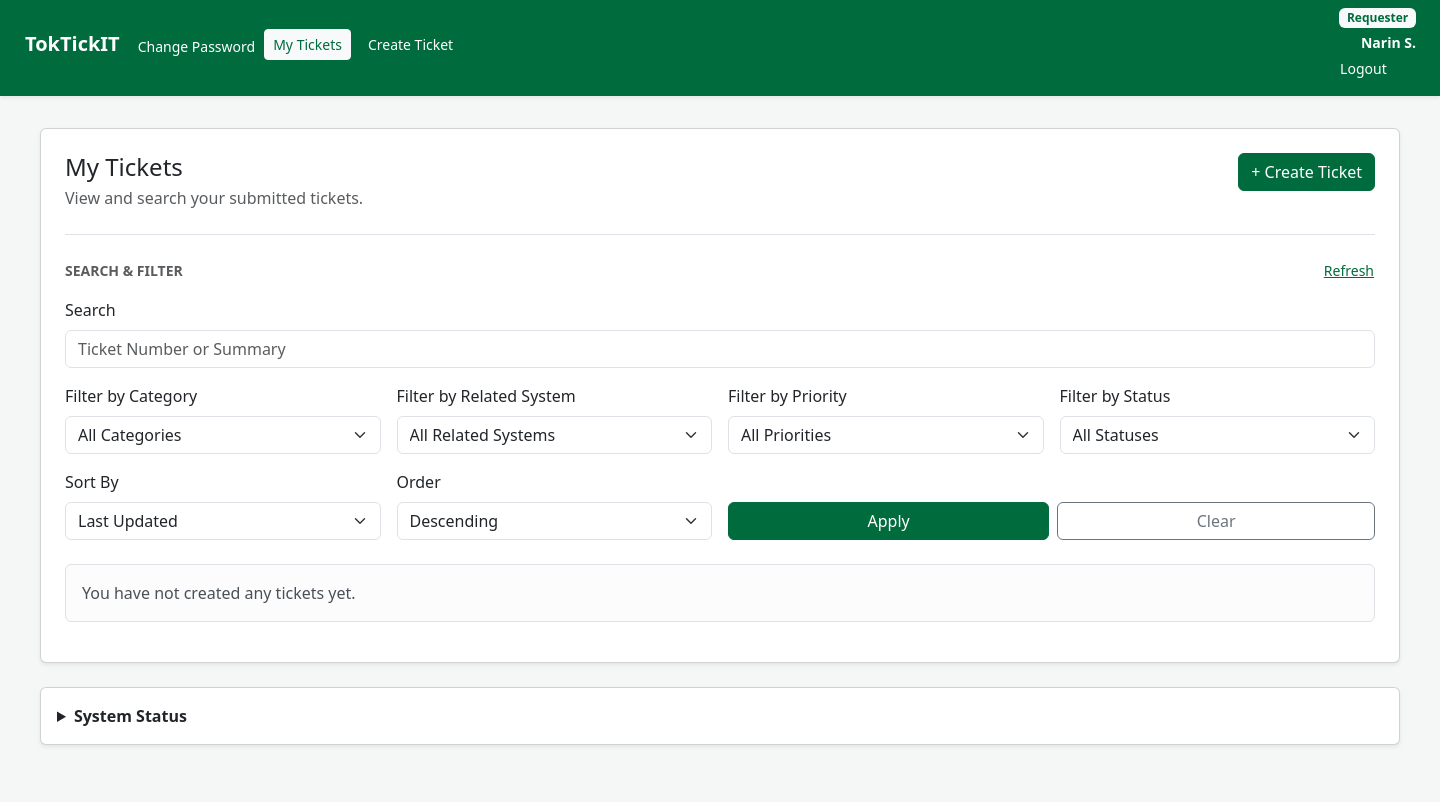
Lab 2 - Create Ticket UI › keeps entered data when ticket creation fails
Expected: the heading "My Tickets" is shown, 65,150 -> 183,183
Click the button "Create Ticket" at (410, 44), box 359,29 -> 462,60
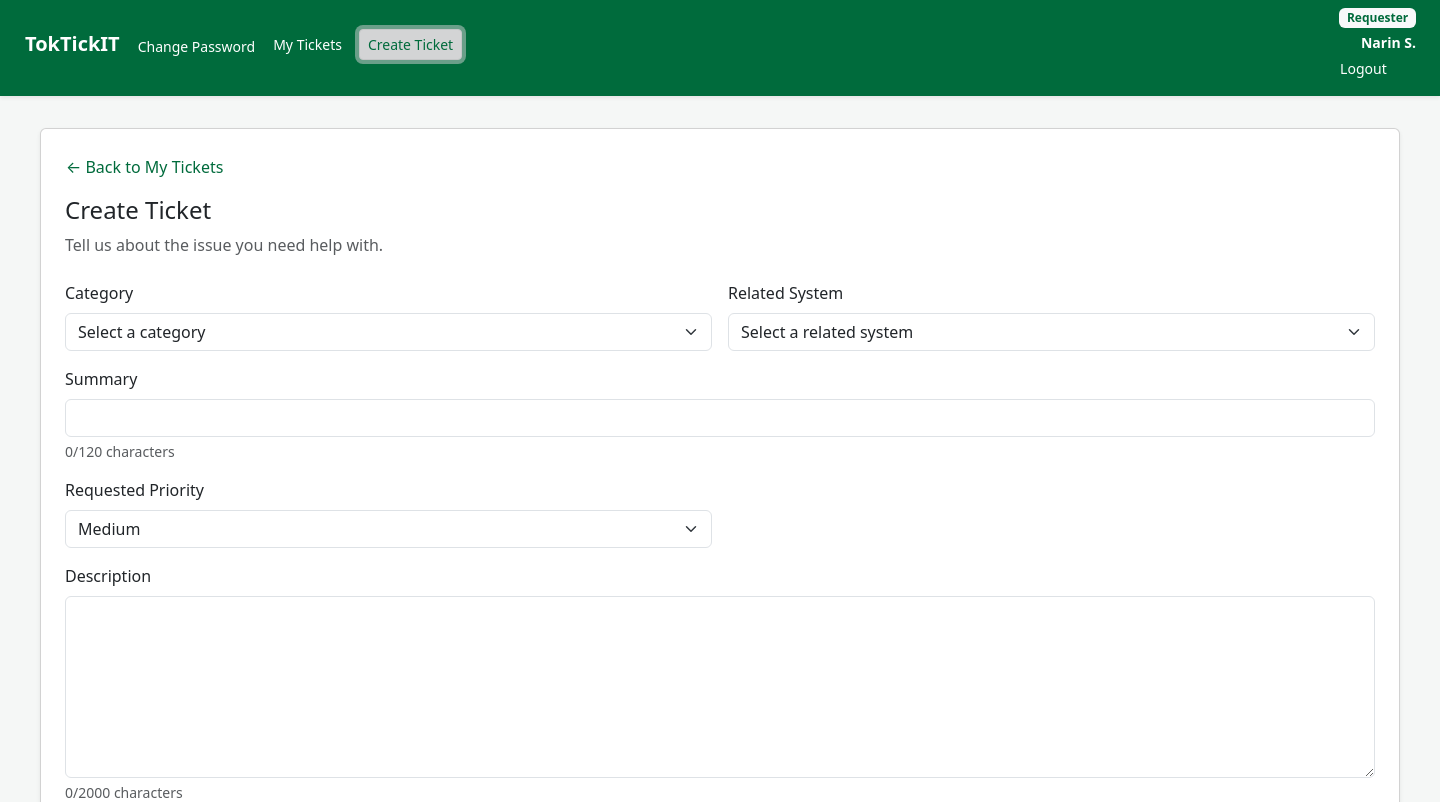
Now the heading "Create Ticket" is shown, box 65,193 -> 211,226
Select "Network" in the dropdown labelled "Category" at (388, 332), box 65,313 -> 712,351
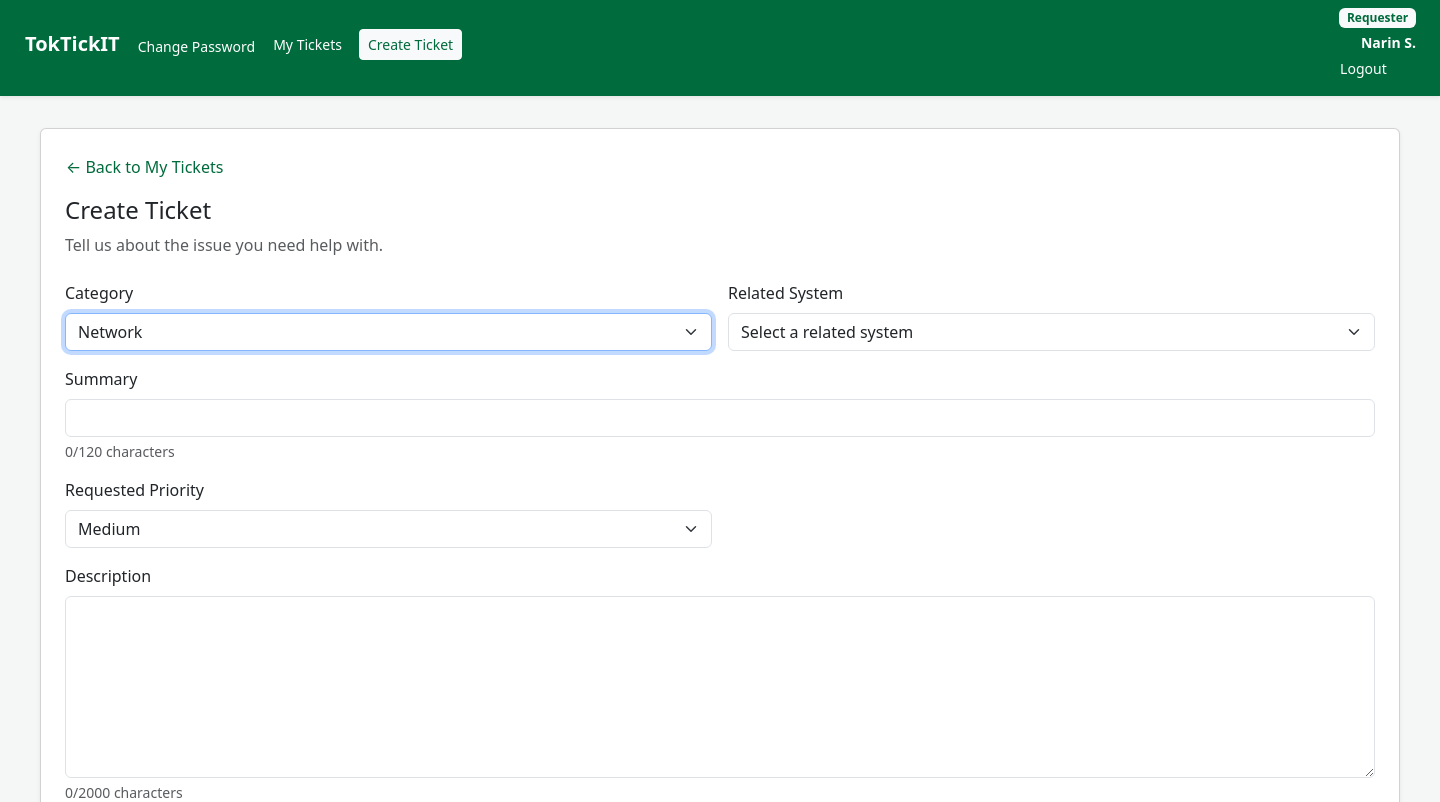
Select "Campus Wi-Fi" in the dropdown labelled "Related System" at (1052, 332), box 728,313 -> 1375,351
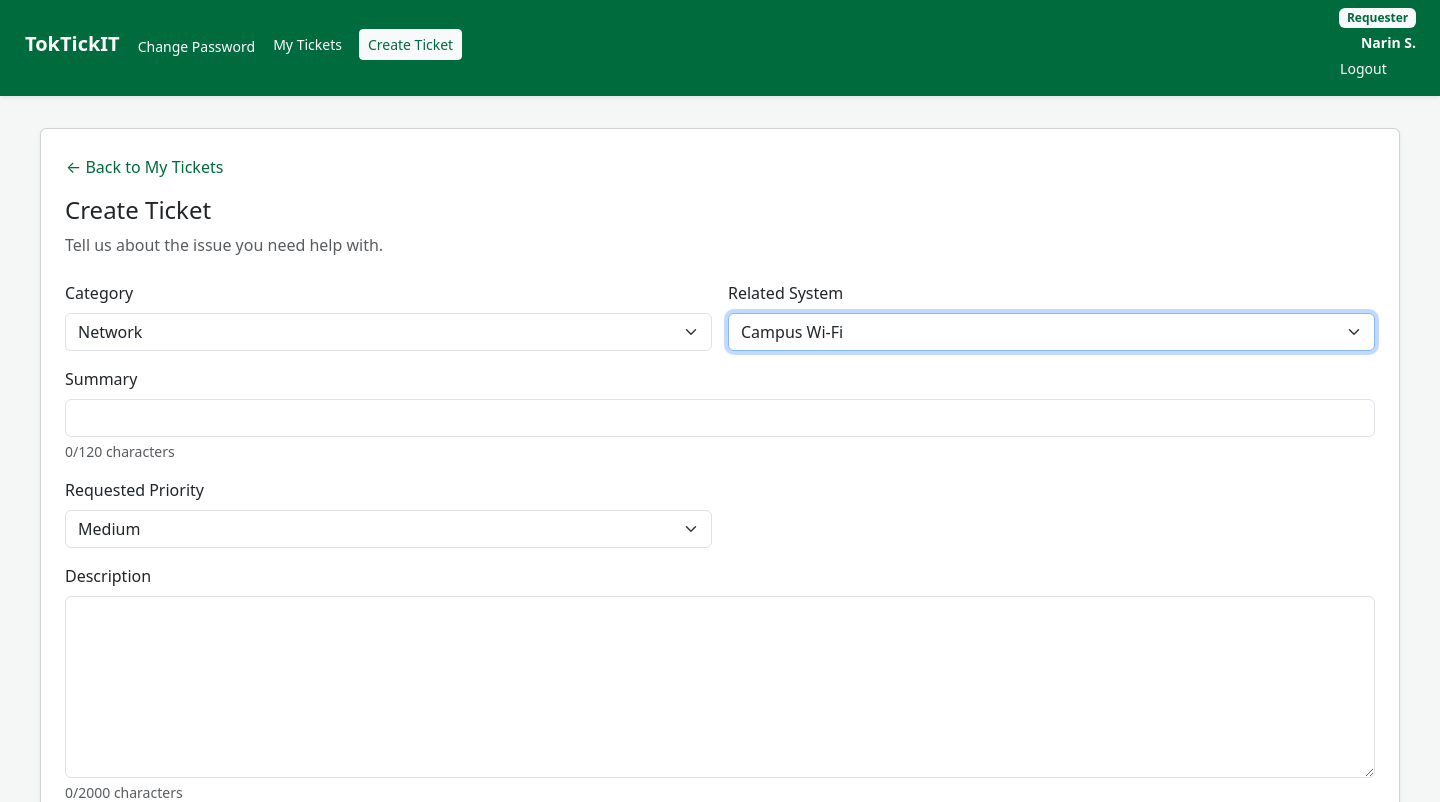
Type "Network problem" into the field labelled "Summary" at (720, 418), box 65,399 -> 1375,437
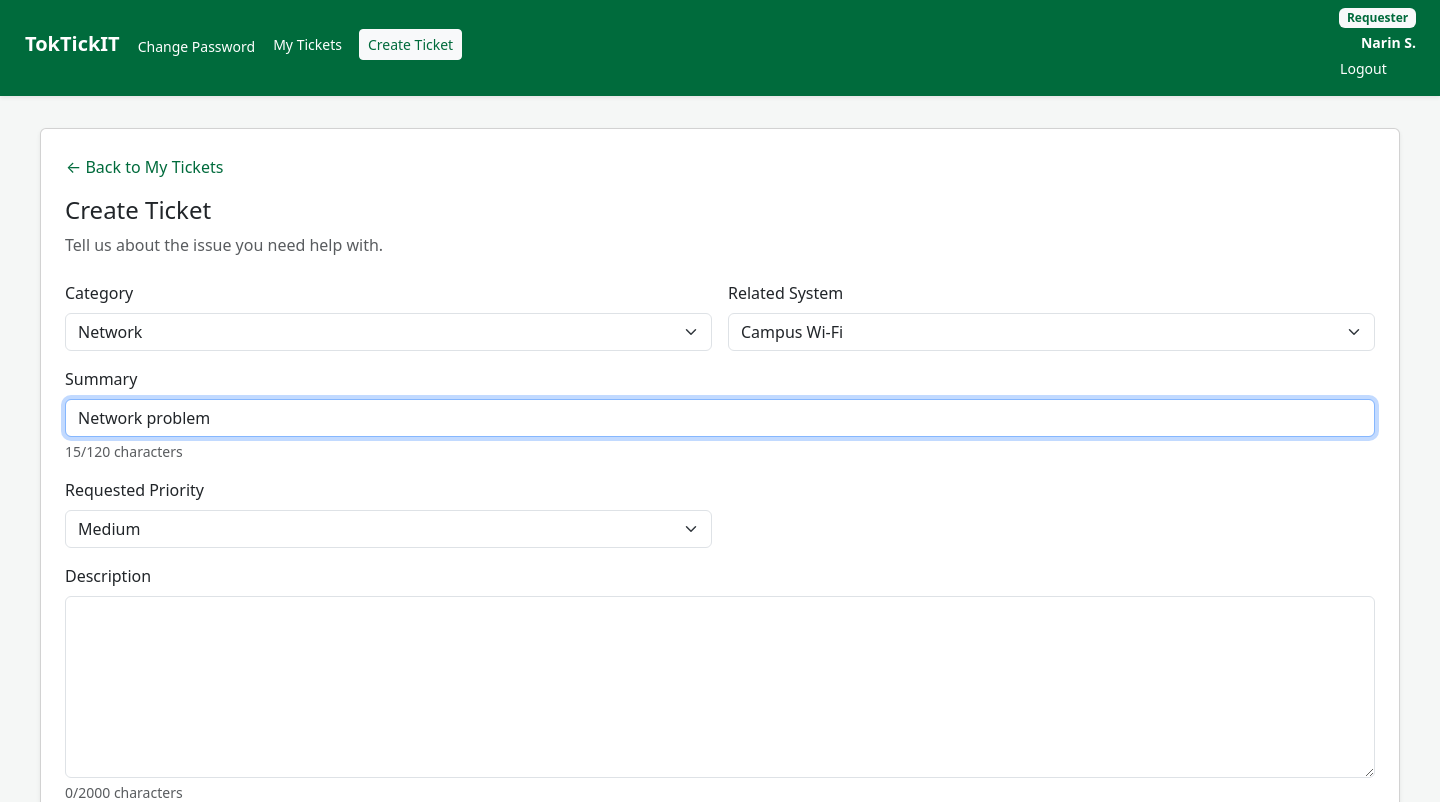
Type "The connection keeps dropping." into the text box labelled "Description" at (720, 687), box 65,596 -> 1375,778
(page scrolled)
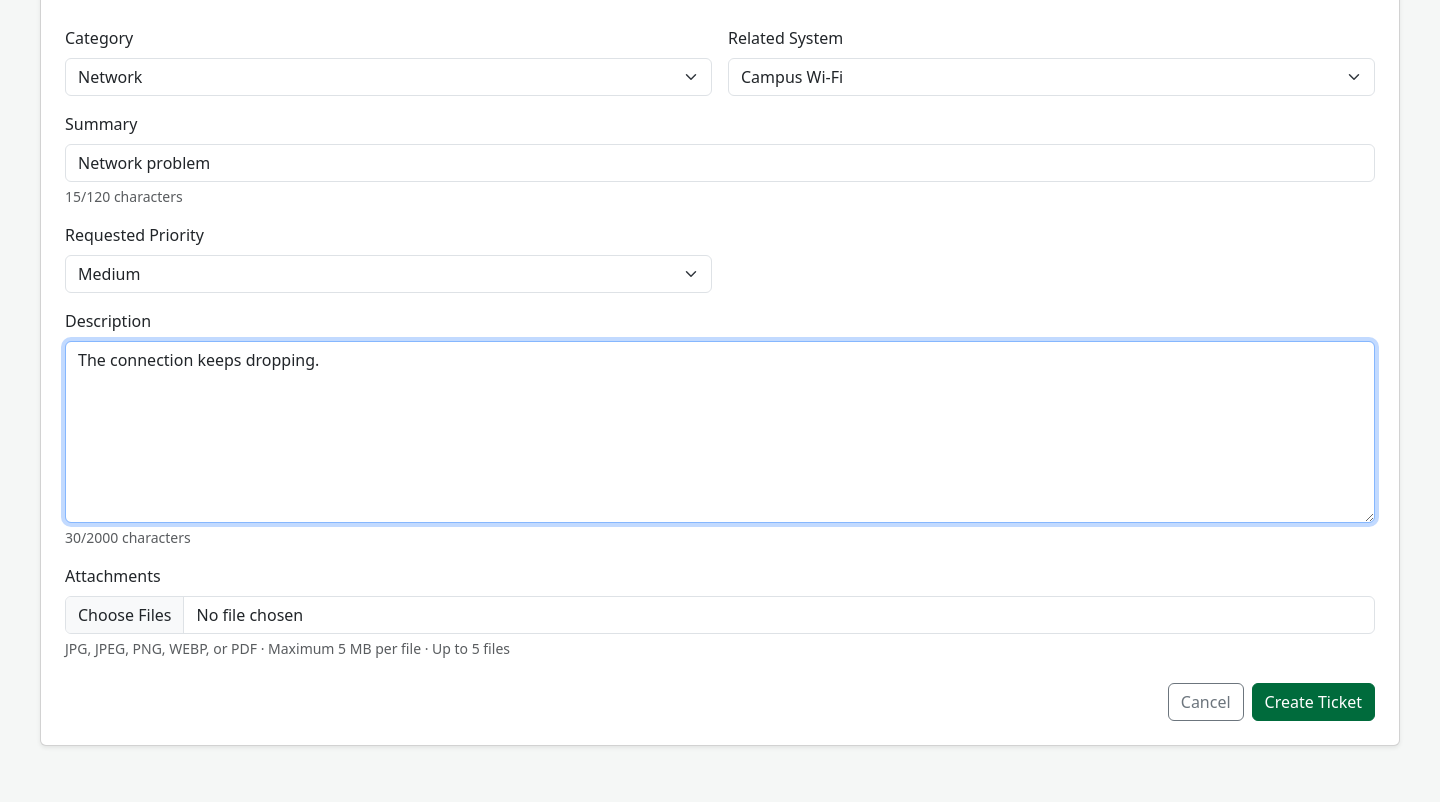
Click the submit button at (1313, 702), box 1252,683 -> 1375,721
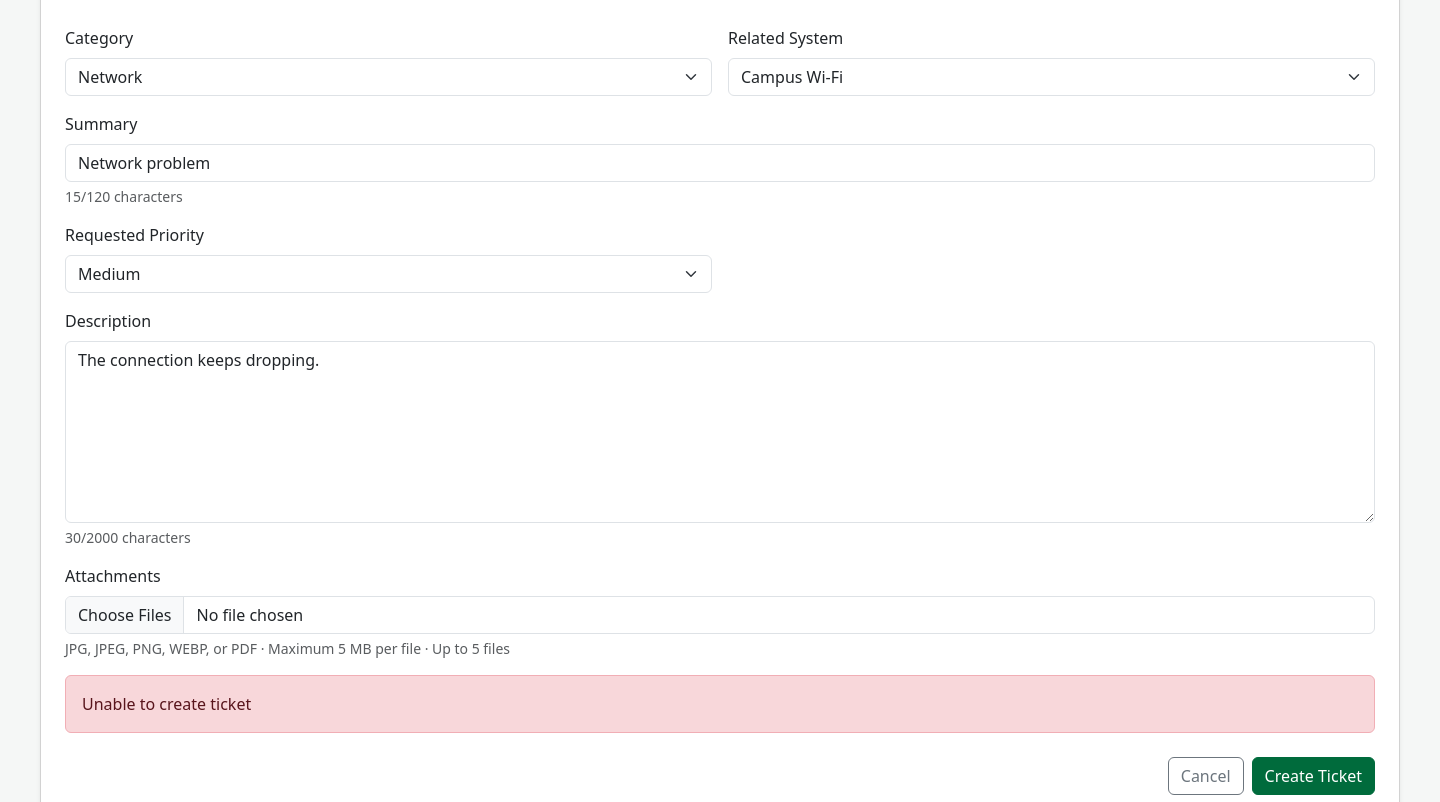
Now the text "Unable to create ticket" is shown, box 65,675 -> 1375,733
